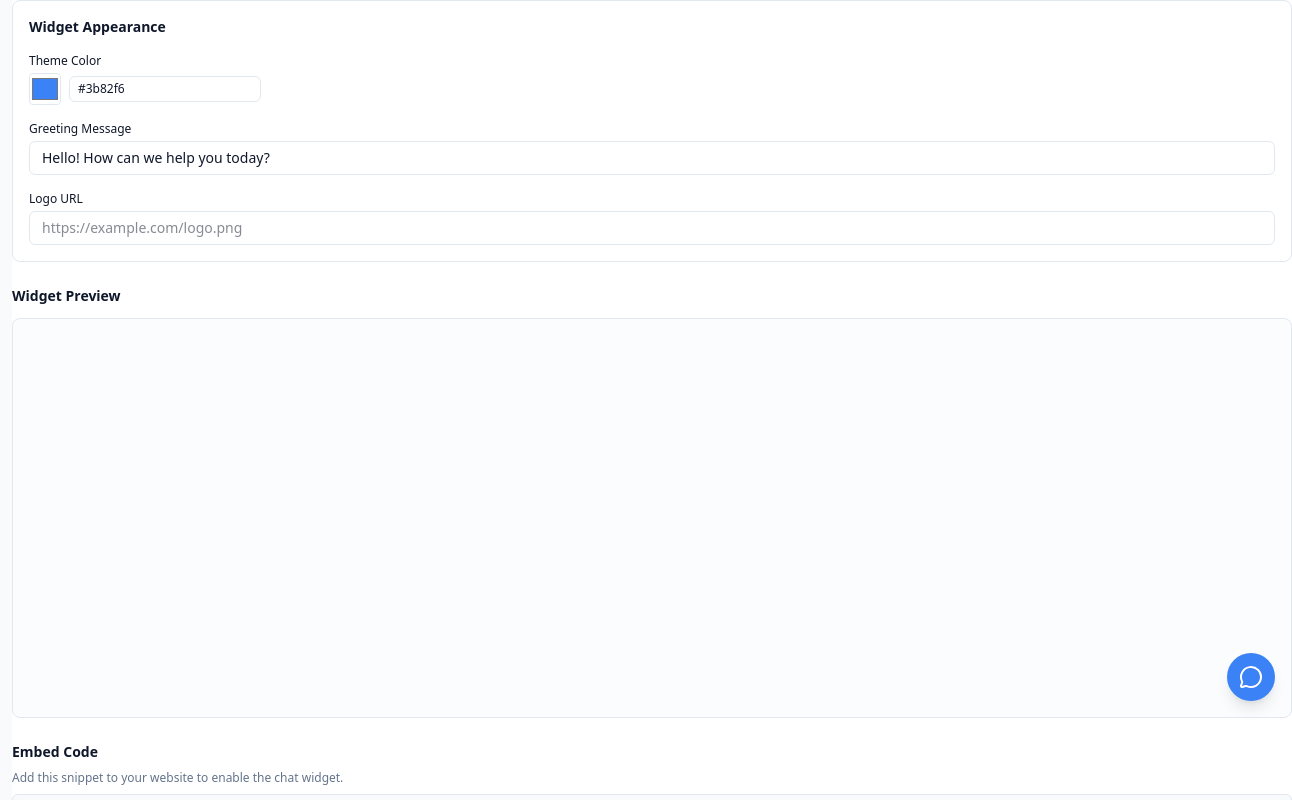
Scenario: ChatChannelPanel › updates preview greeting when greeting input changes
Replace the text in the field with test id "widget-greeting-input" with "Welcome!" at (652, 158), box [29, 141, 1275, 175]
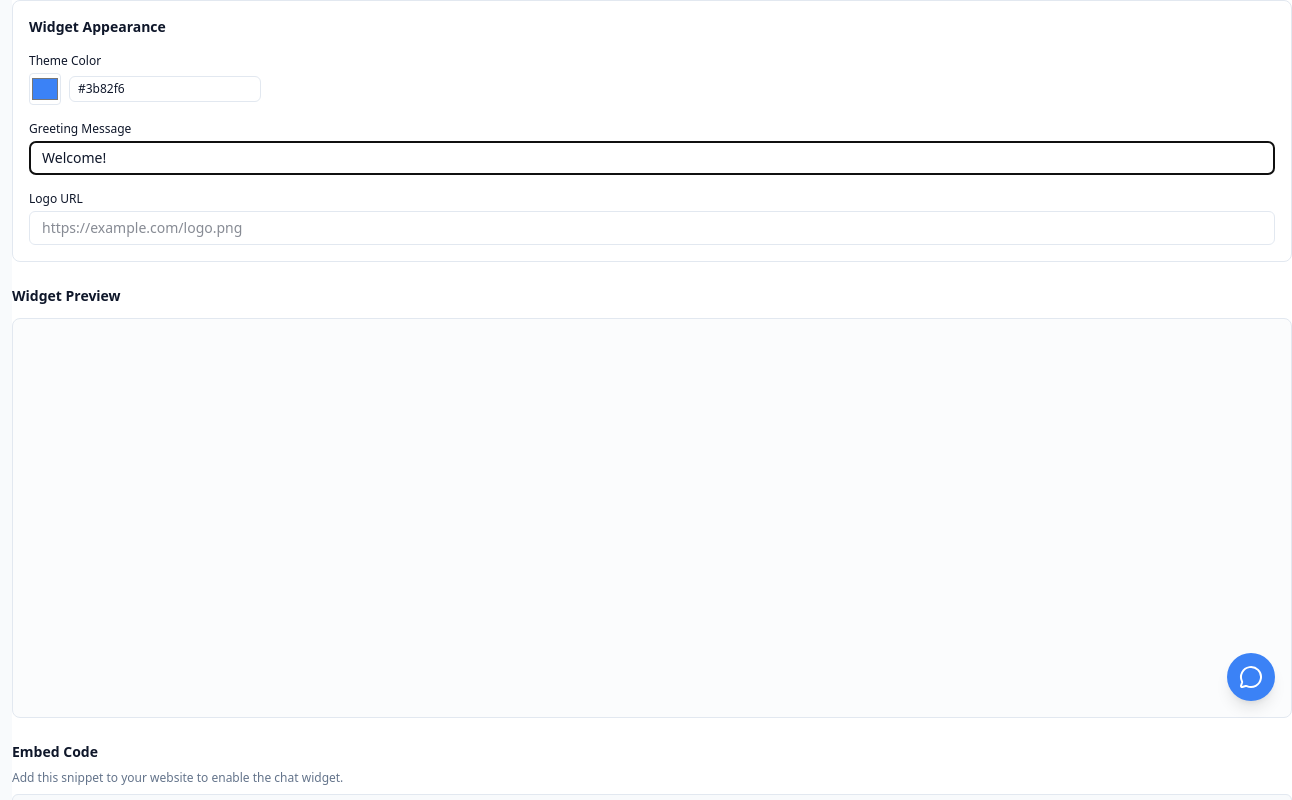
Open the panel to see the greeting
Click the button with test id "chat-widget-button" at (1251, 677), box [1227, 653, 1275, 701]
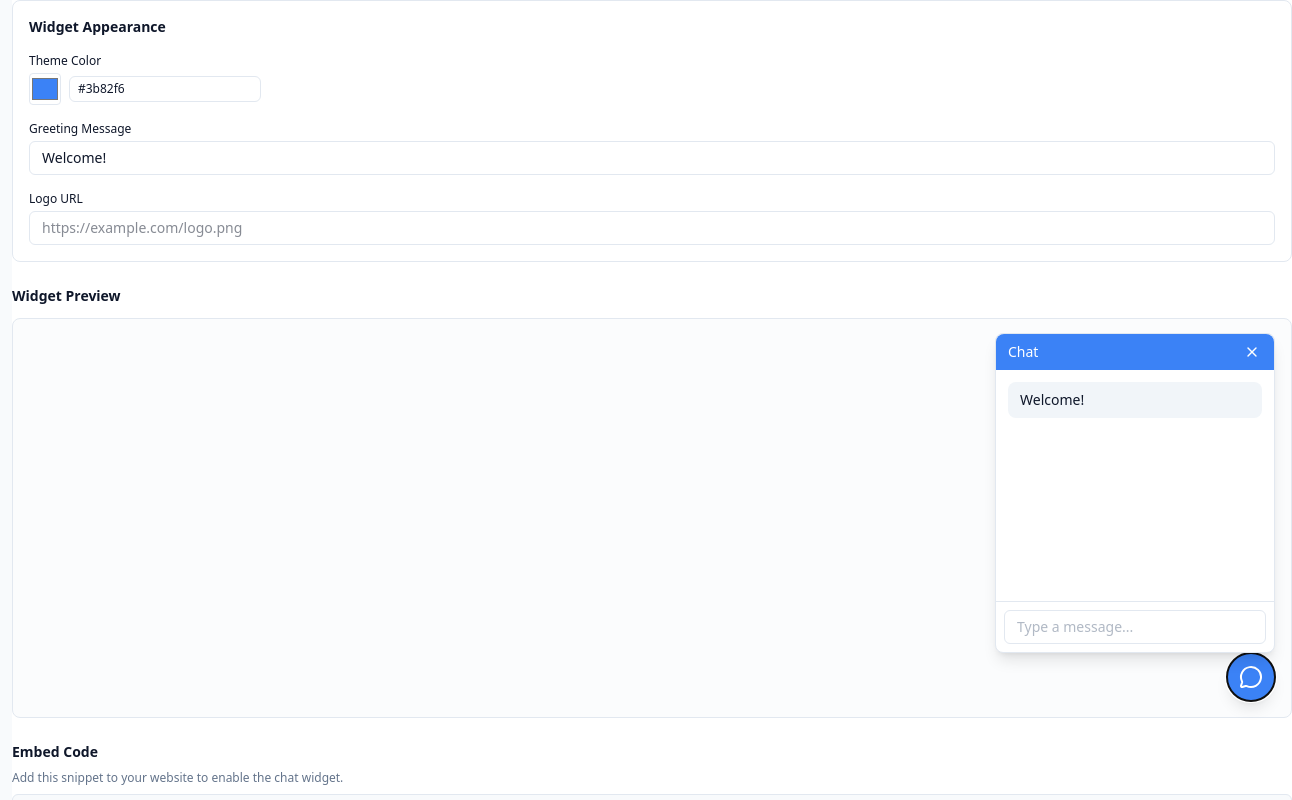
Expected: the text with test id "chat-widget-greeting" reads "Welcome!", [1020, 390, 1084, 409]
